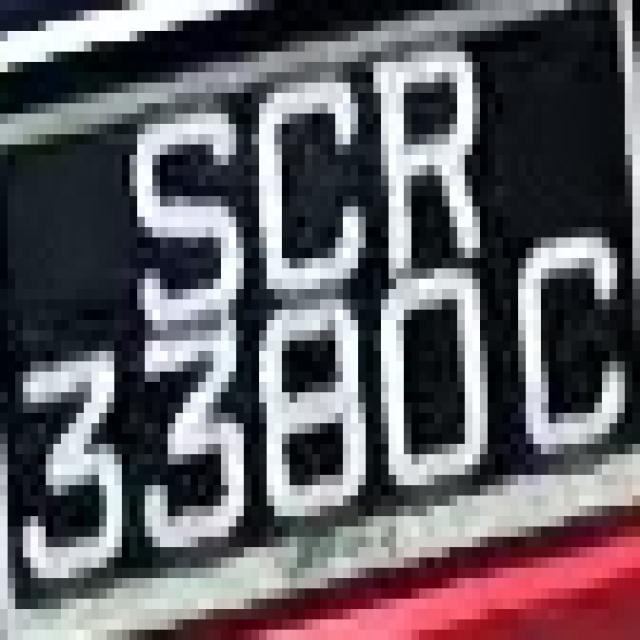0: (374, 217, 496, 526)
3: (8, 320, 137, 619), (130, 310, 252, 598)
8: (252, 258, 374, 547)
C: (205, 62, 388, 341), (503, 186, 625, 475)
R: (336, 41, 510, 279)
S: (99, 62, 244, 341)
